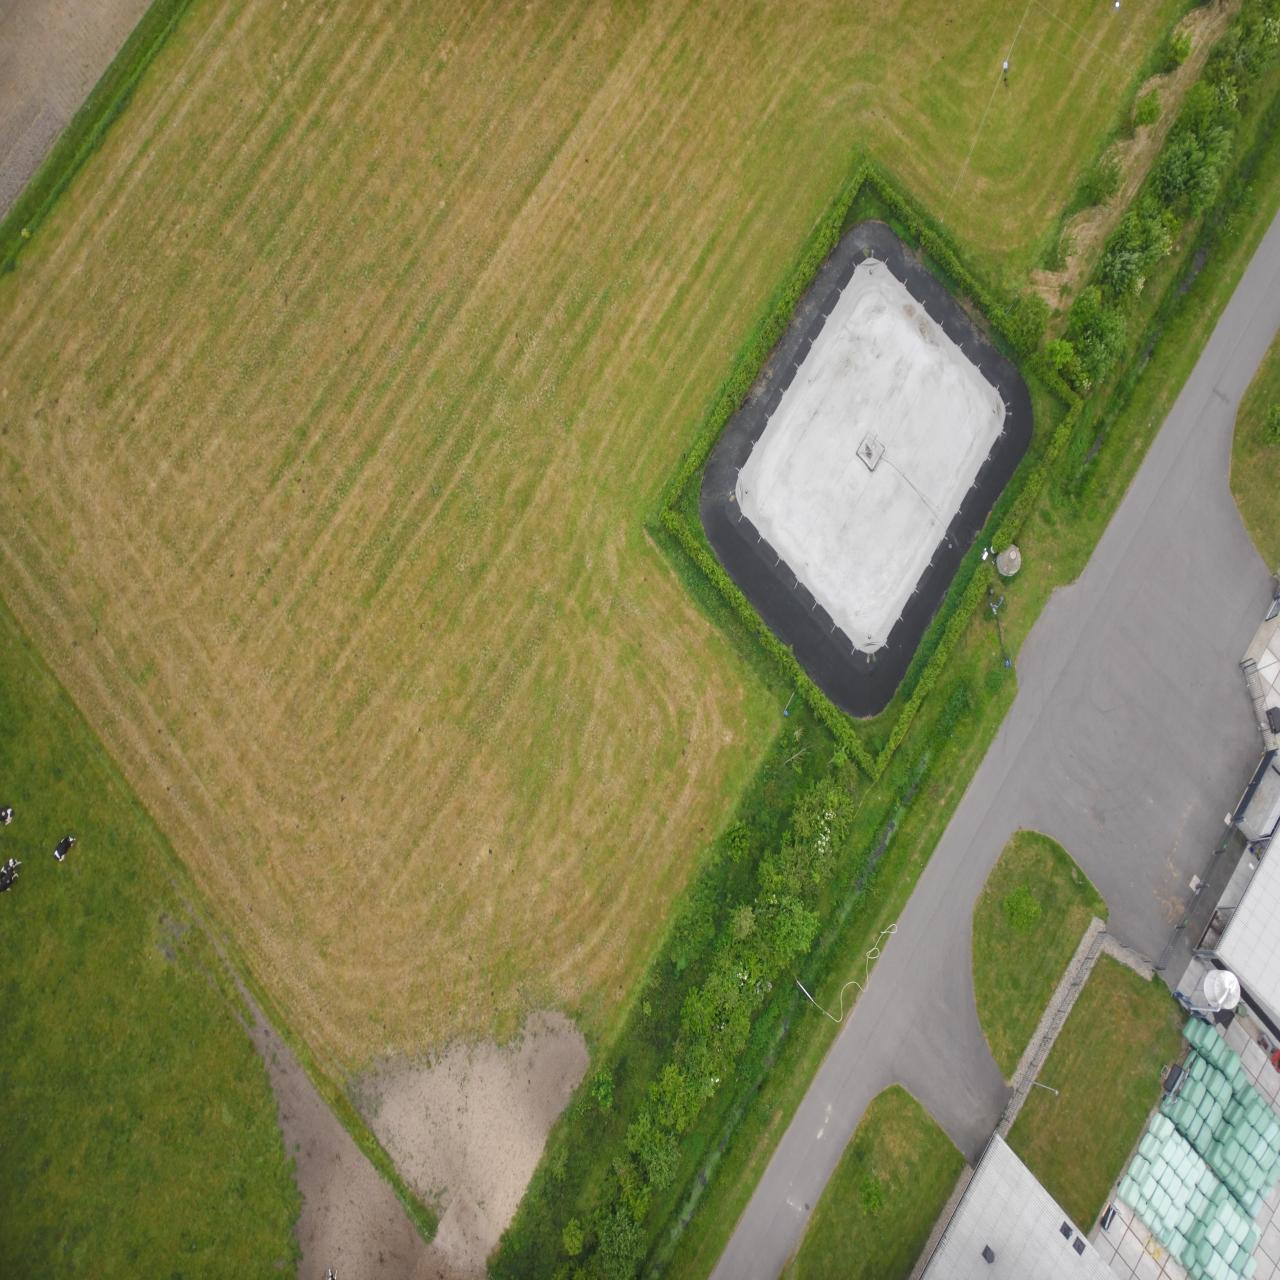cow: (1204, 418, 1226, 445)
